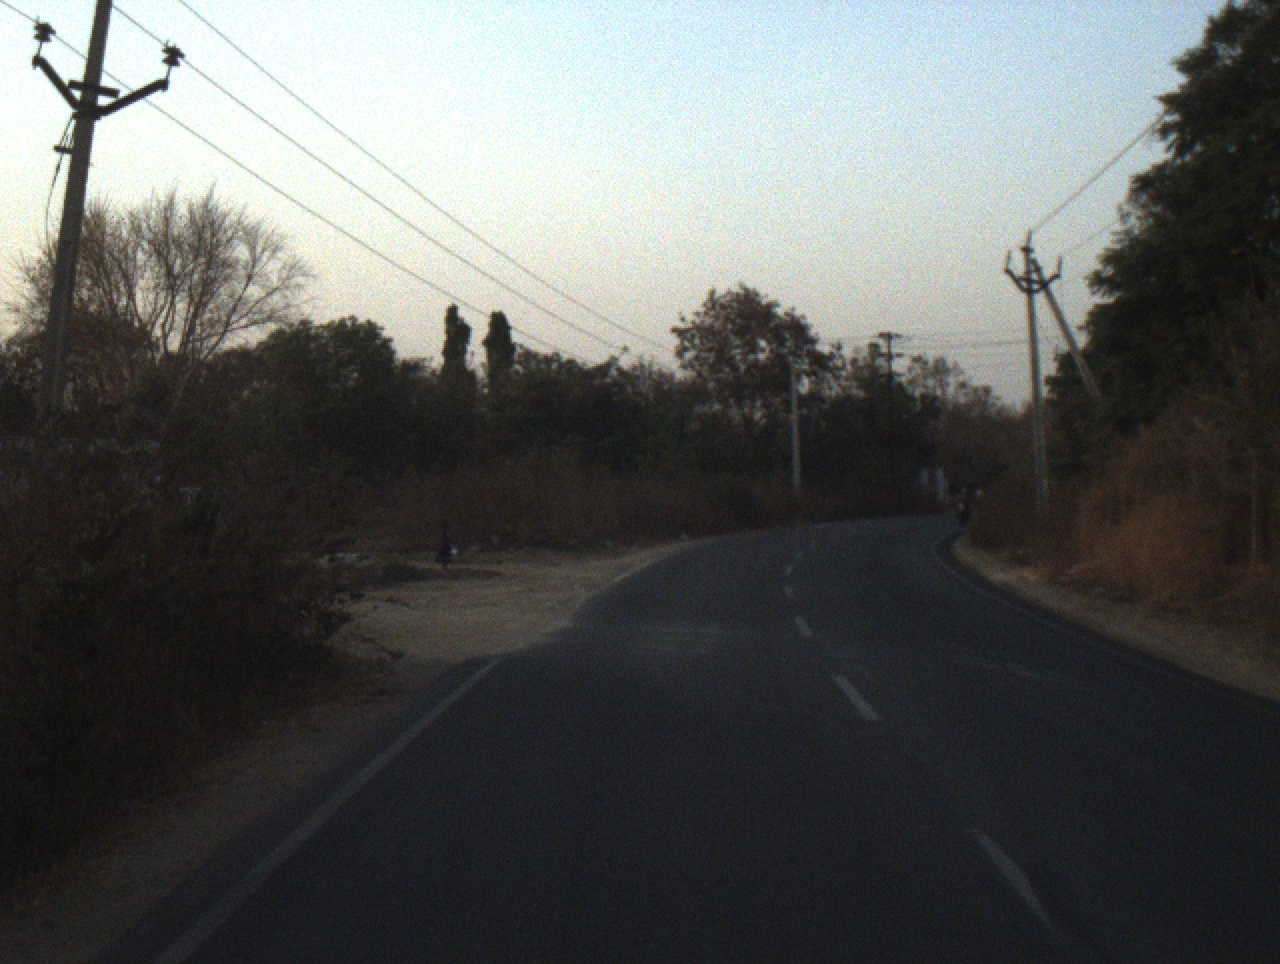motorcycle: (954, 504, 968, 522)
person: (432, 520, 464, 576)
rider: (953, 483, 971, 520)
vehicle fallback: (972, 486, 986, 500)
